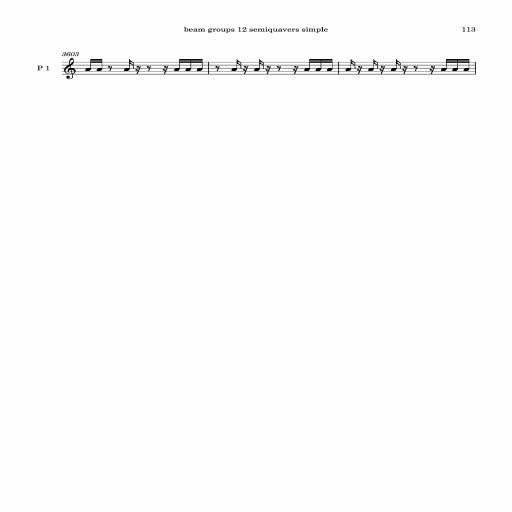eighth_rest: (215, 66, 220, 71), (413, 66, 418, 71), (108, 66, 112, 71), (147, 66, 151, 71), (277, 66, 281, 71)
note_head: (85, 68, 91, 71), (124, 68, 130, 71), (174, 68, 180, 71), (186, 68, 192, 71), (196, 68, 202, 71), (254, 68, 260, 71), (304, 68, 310, 71), (316, 68, 322, 71), (368, 68, 374, 71), (390, 68, 396, 71), (440, 68, 446, 71), (452, 68, 458, 71), (97, 68, 102, 71), (232, 68, 237, 71), (327, 68, 332, 71), (346, 68, 351, 71), (464, 68, 469, 71)
sixteenth_note: (124, 59, 134, 71), (232, 59, 242, 71), (254, 59, 264, 71), (346, 59, 356, 71), (368, 59, 378, 71), (391, 59, 401, 71), (85, 59, 94, 71), (174, 59, 182, 71), (304, 59, 312, 71), (441, 59, 448, 71), (186, 59, 192, 71), (196, 59, 202, 71), (316, 59, 322, 71), (452, 59, 458, 71), (464, 59, 470, 71), (97, 59, 102, 71), (327, 59, 332, 71)
sixteenth_rest: (135, 66, 141, 74), (265, 66, 271, 74), (402, 66, 408, 74), (163, 66, 168, 74), (243, 66, 248, 74), (293, 66, 298, 74), (357, 66, 362, 74), (380, 66, 385, 74), (430, 66, 435, 74)
staff: (62, 62, 476, 74)
treble_clef: (64, 58, 76, 79)
